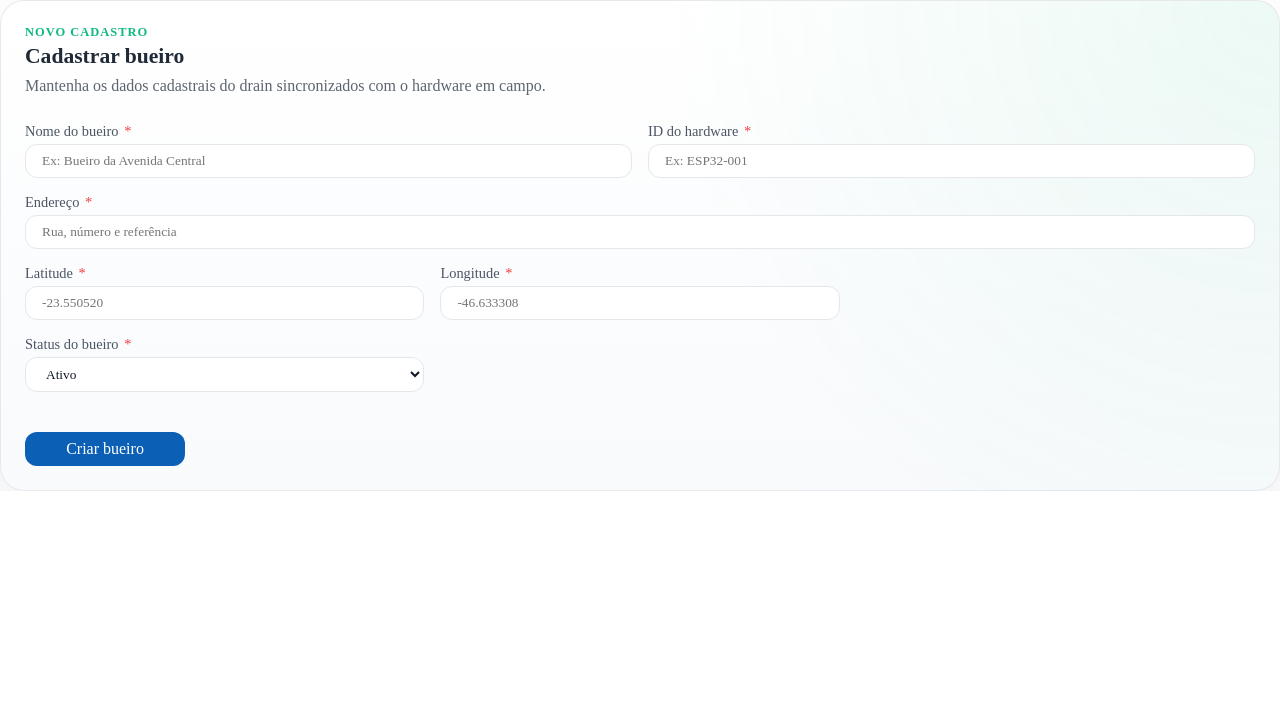
Scenario: DrainForm › exibe validações dos campos obrigatórios ao enviar vazio
Click the button "Criar bueiro" at (105, 449), box [25,432,185,466]
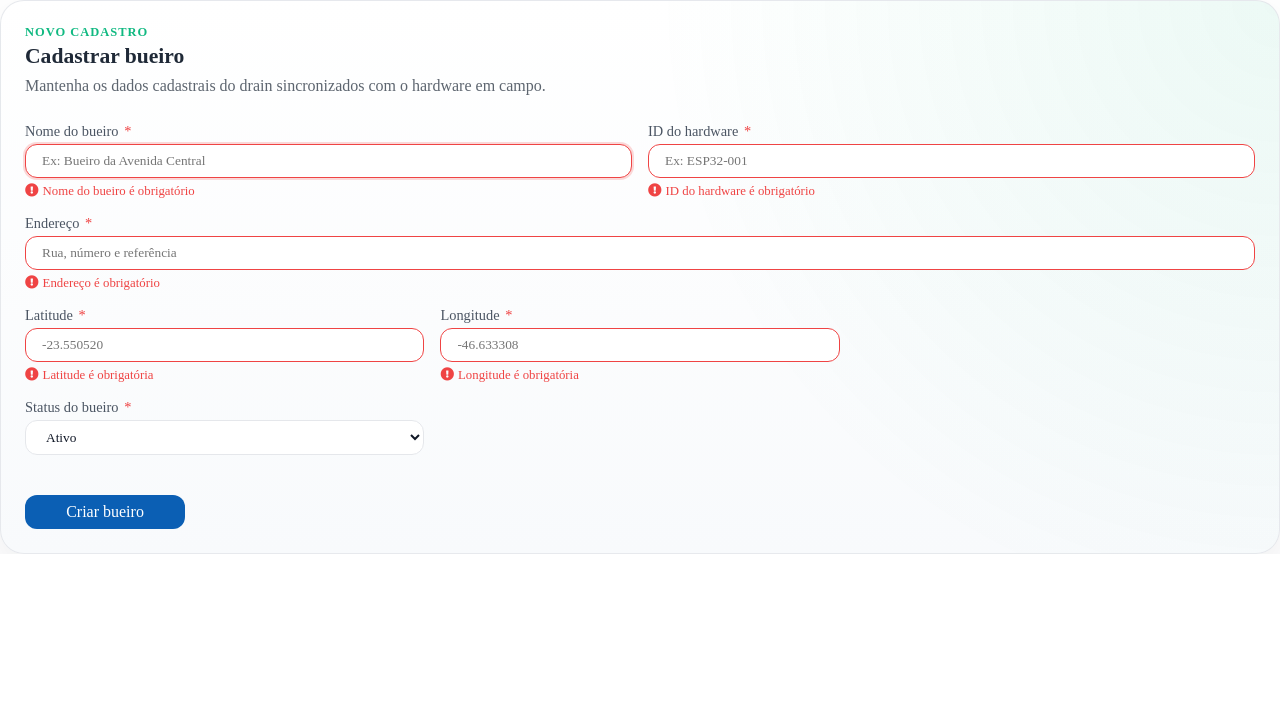
Check: the text "Nome do bueiro é obrigatório" is shown, box [25,184,195,198]
Check: the text "Endereço é obrigatório" is shown, box [25,276,160,290]
Check: the text "Latitude é obrigatória" is shown, box [25,368,154,382]
